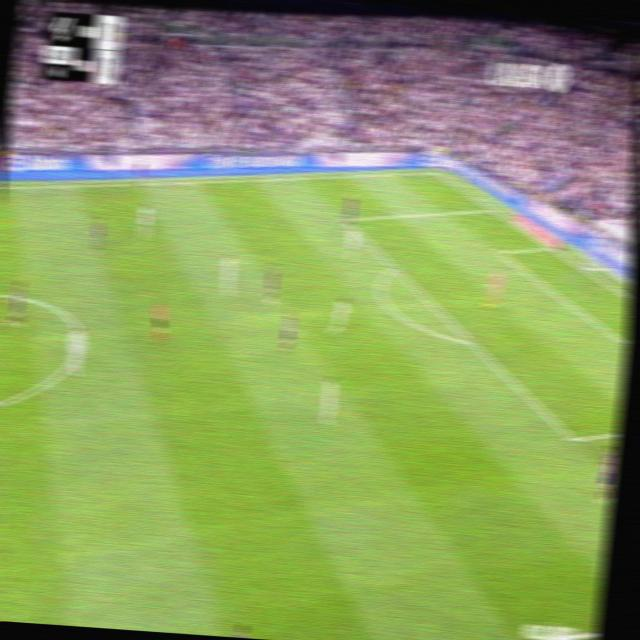bigarea_bottom_inner: (564, 426, 581, 450)
bigarea_top_inner: (340, 213, 350, 223)
bottom_arc_area_intersection: (465, 332, 478, 350)
corner: (429, 166, 441, 176)
smallarea_top_inner: (493, 244, 504, 256)
top_arc_area_intersection: (388, 259, 401, 274)
